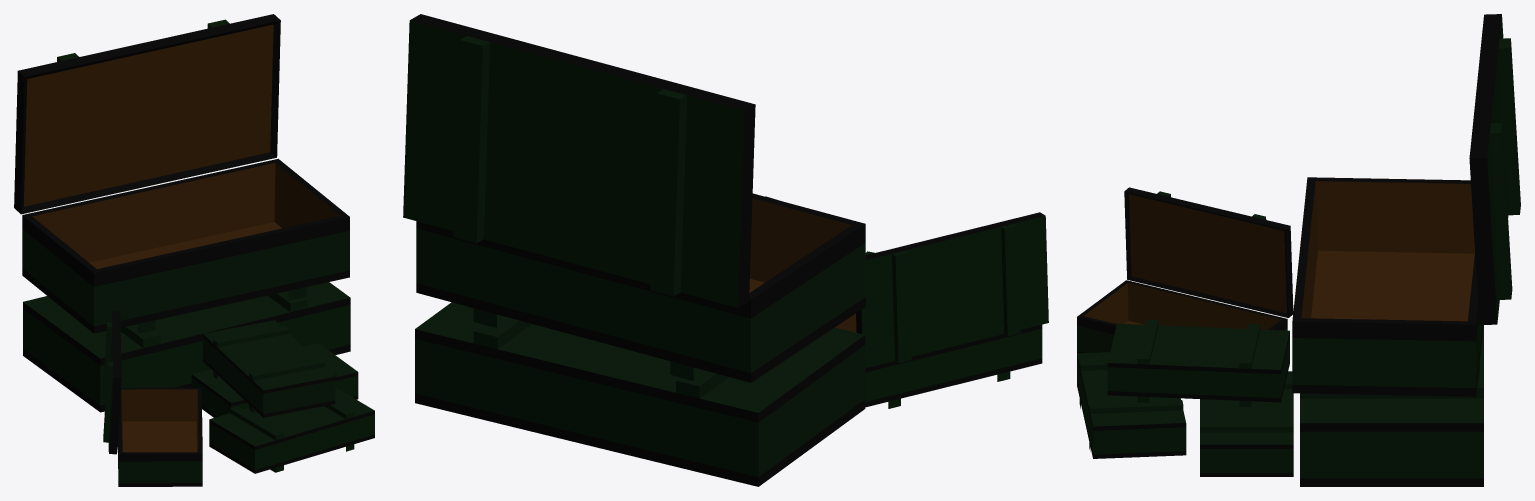
The model's file is caches.obj.
3 renders of one model, left to right at view 1: azimuth 30°, elevation 25°; view 2: azimuth 150°, elevation 25°; view 3: azimuth 270°, elevation 25°, orthographic. The views are drawn at different scales.
Parts seen in each view (by area): view 1: caches; view 2: caches; view 3: caches.
Boxes of the visible parts, bbox=[...] form: caches: bbox=[14, 14, 374, 486]; caches: bbox=[403, 14, 1048, 486]; caches: bbox=[1077, 14, 1520, 486].
Bounding box in the file's own units: 0.8345 × 0.7404 × 0.8587.
